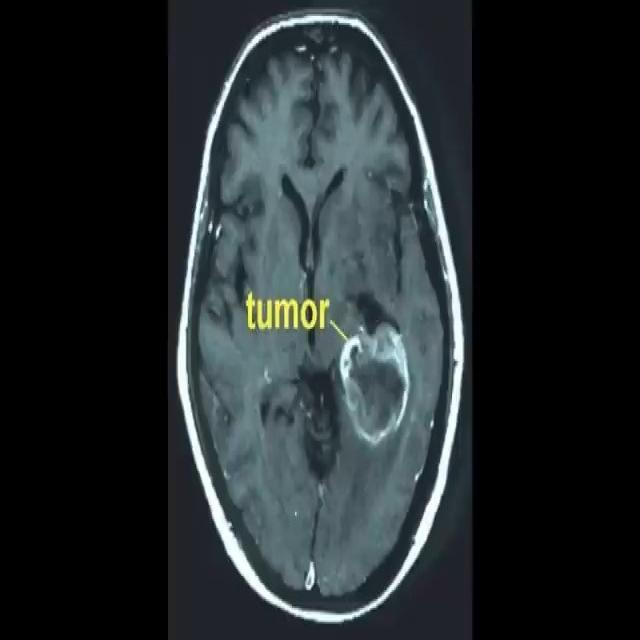tumor: (341, 282, 409, 456)
